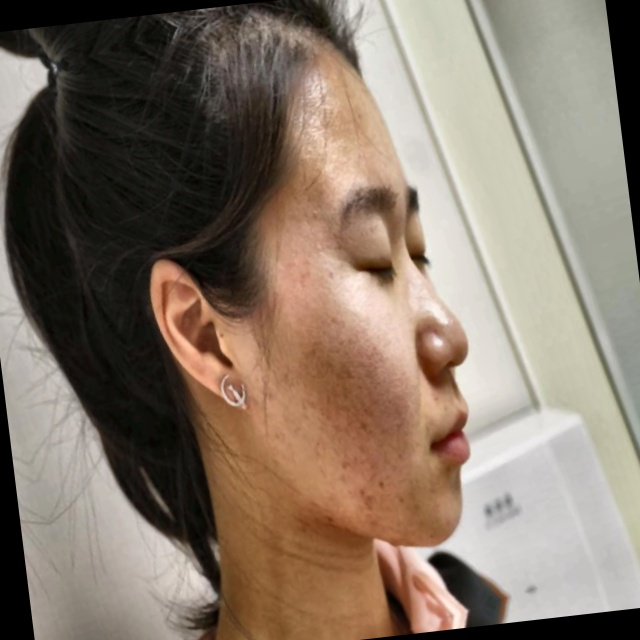comedone: (356, 475, 382, 505)
